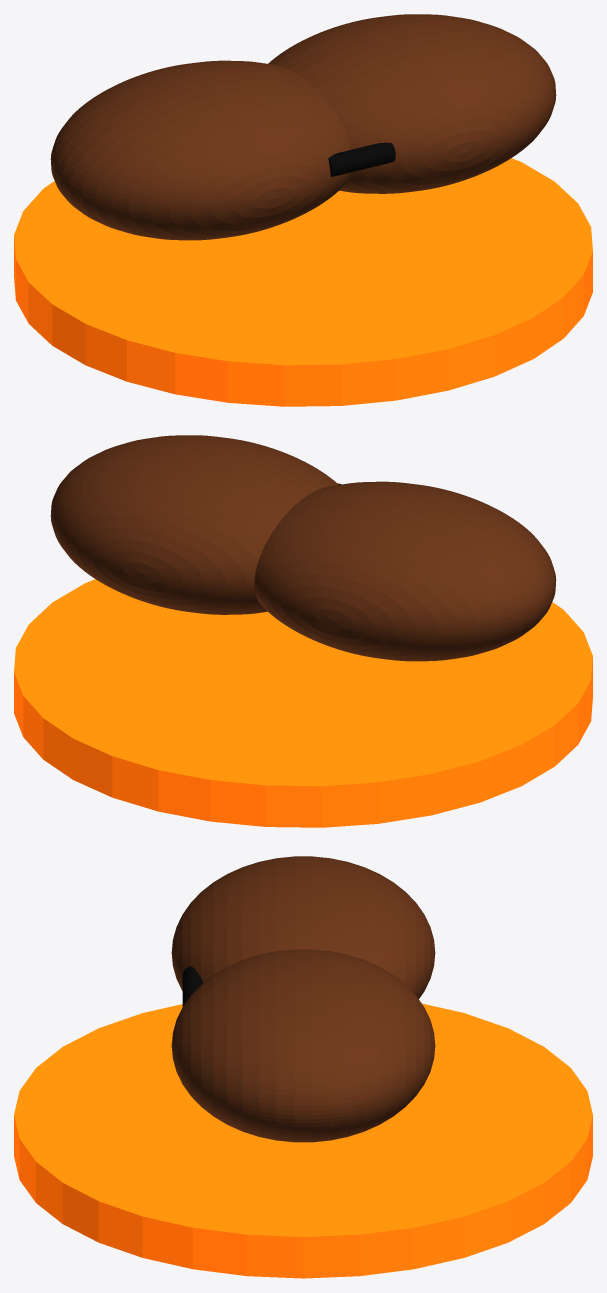
File: spanish_castanets.dae
3 renders of one model, top to bottom at view 1: azimuth 30°, elevation 25°; view 2: azimuth 150°, elevation 25°; view 3: azimuth 270°, elevation 25°, orthographic.
Parts seen in each view (by area): view 1: 11_14_Popular_Spanish_Castanets_ROOT_base, 11_14_Popular_Spanish_Castanets_part_01, 11_14_Popular_Spanish_Castanets_part_02, 11_14_Popular_Spanish_Castanets_part_03; view 2: 11_14_Popular_Spanish_Castanets_ROOT_base, 11_14_Popular_Spanish_Castanets_part_01, 11_14_Popular_Spanish_Castanets_part_02; view 3: 11_14_Popular_Spanish_Castanets_ROOT_base, 11_14_Popular_Spanish_Castanets_part_02, 11_14_Popular_Spanish_Castanets_part_01.
Boxes of the visible parts, box(x1,y1,x2,y2) form: 11_14_Popular_Spanish_Castanets_ROOT_base: box(14, 158, 592, 406); 11_14_Popular_Spanish_Castanets_part_01: box(50, 60, 351, 240); 11_14_Popular_Spanish_Castanets_part_02: box(268, 14, 556, 193); 11_14_Popular_Spanish_Castanets_part_03: box(328, 142, 395, 176); 11_14_Popular_Spanish_Castanets_ROOT_base: box(14, 579, 592, 827); 11_14_Popular_Spanish_Castanets_part_01: box(254, 481, 556, 661); 11_14_Popular_Spanish_Castanets_part_02: box(50, 435, 338, 614); 11_14_Popular_Spanish_Castanets_ROOT_base: box(14, 1003, 592, 1278); 11_14_Popular_Spanish_Castanets_part_02: box(171, 949, 435, 1142); 11_14_Popular_Spanish_Castanets_part_01: box(171, 856, 435, 998).
Bounding box in the file's own units: 0.76 × 0.3242 × 0.76.
